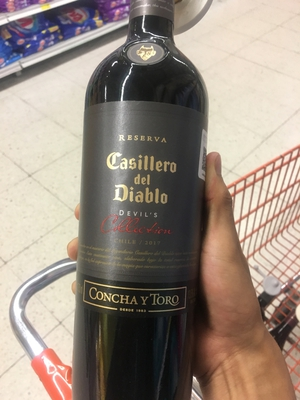casillero del diablo devils collection rojo: (69, 19, 216, 400)
